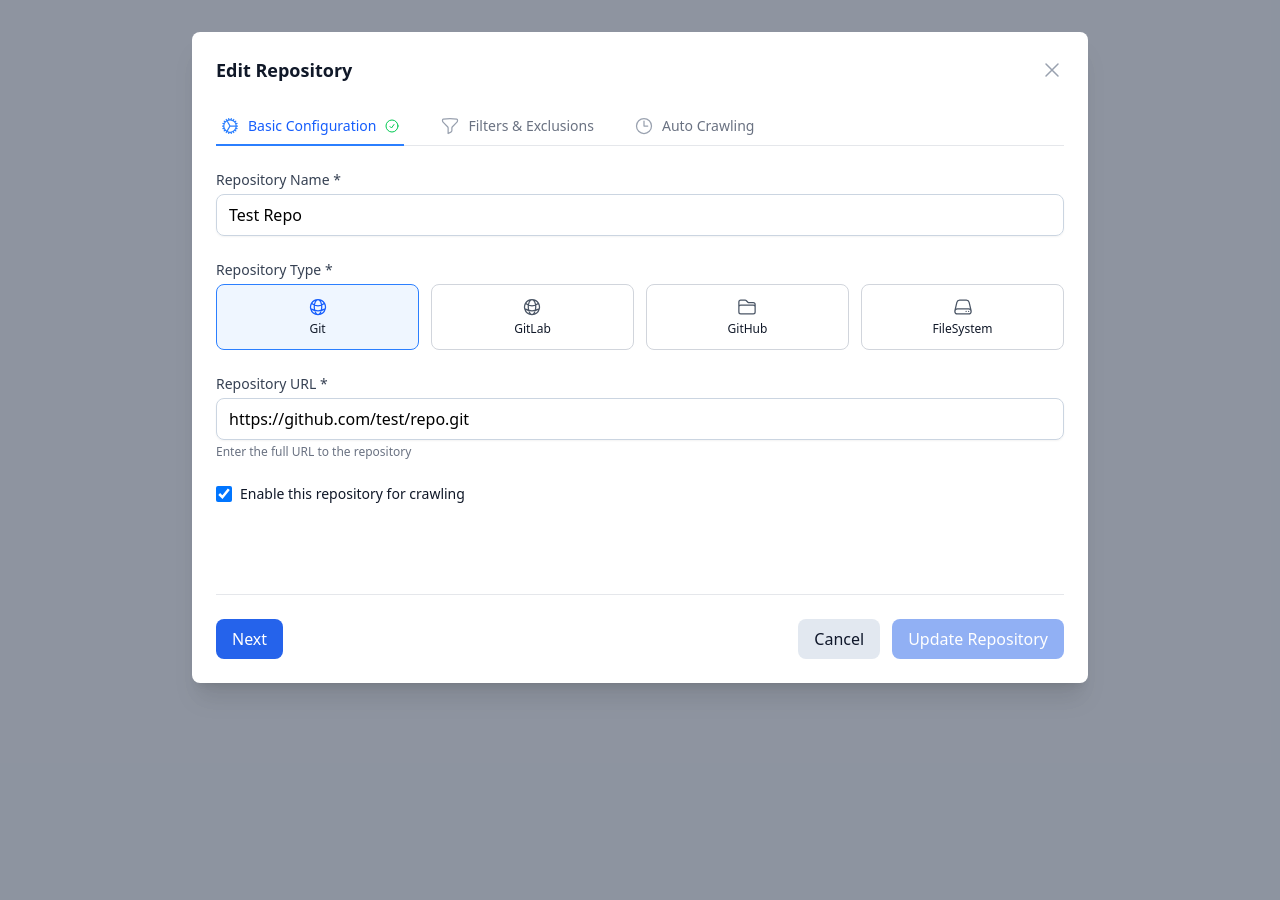
Test: RepositoryForm - Filtering Fields › Form State Management › should load existing filter values when editing
This screenshot has width=1280, height=900.
Step 1. Click the button "Filters & Exclusions" → (517,127), box [436,108,598,146]
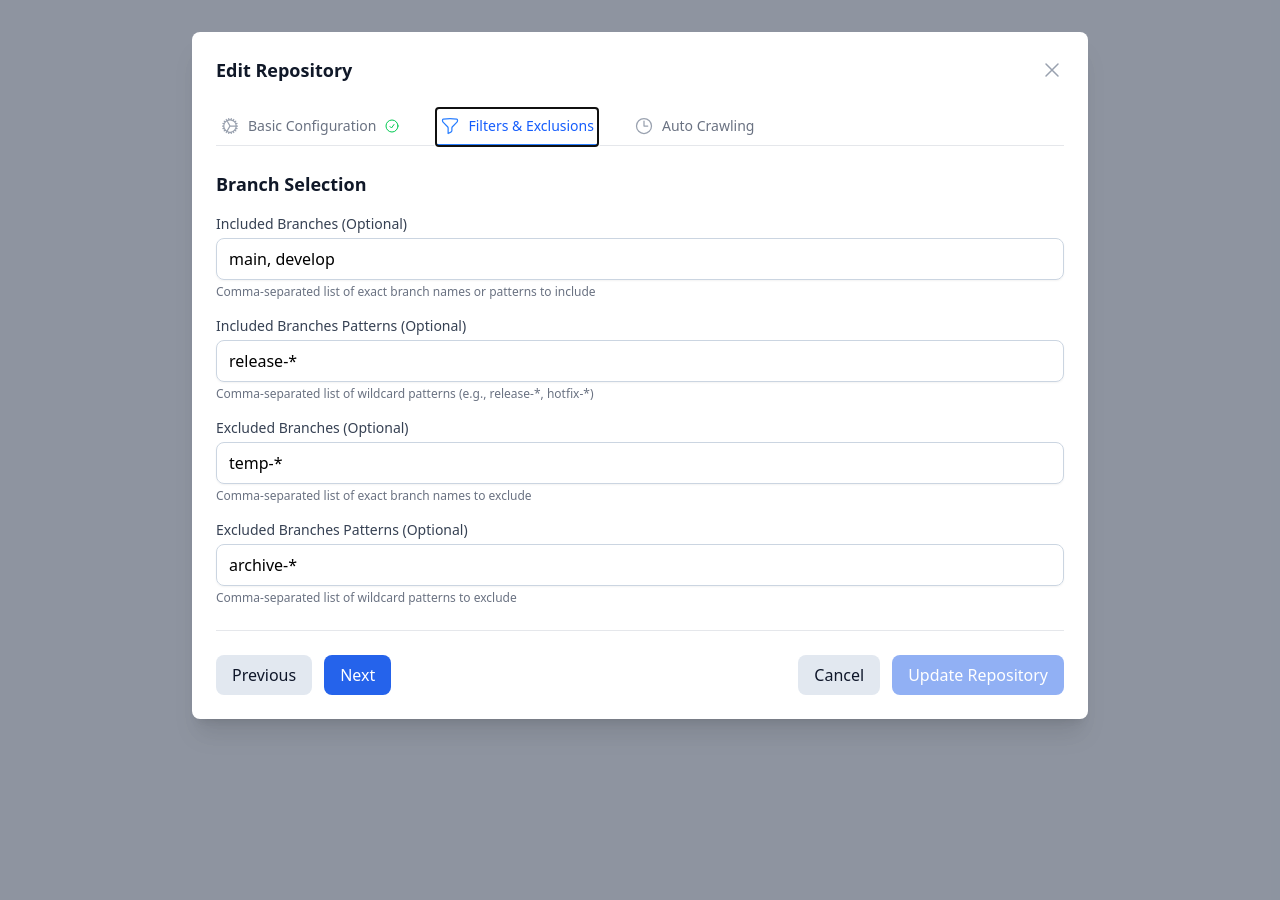
Check: the field showing "main, develop" below "Included Branches (Optional)" is shown, box [216,238,1064,280]
Check: the field showing "release-*" below "Included Branches Patterns (Optional)" is shown, box [216,340,1064,382]
Check: the field showing "temp-*" below "Excluded Branches (Optional)" is shown, box [216,442,1064,484]
